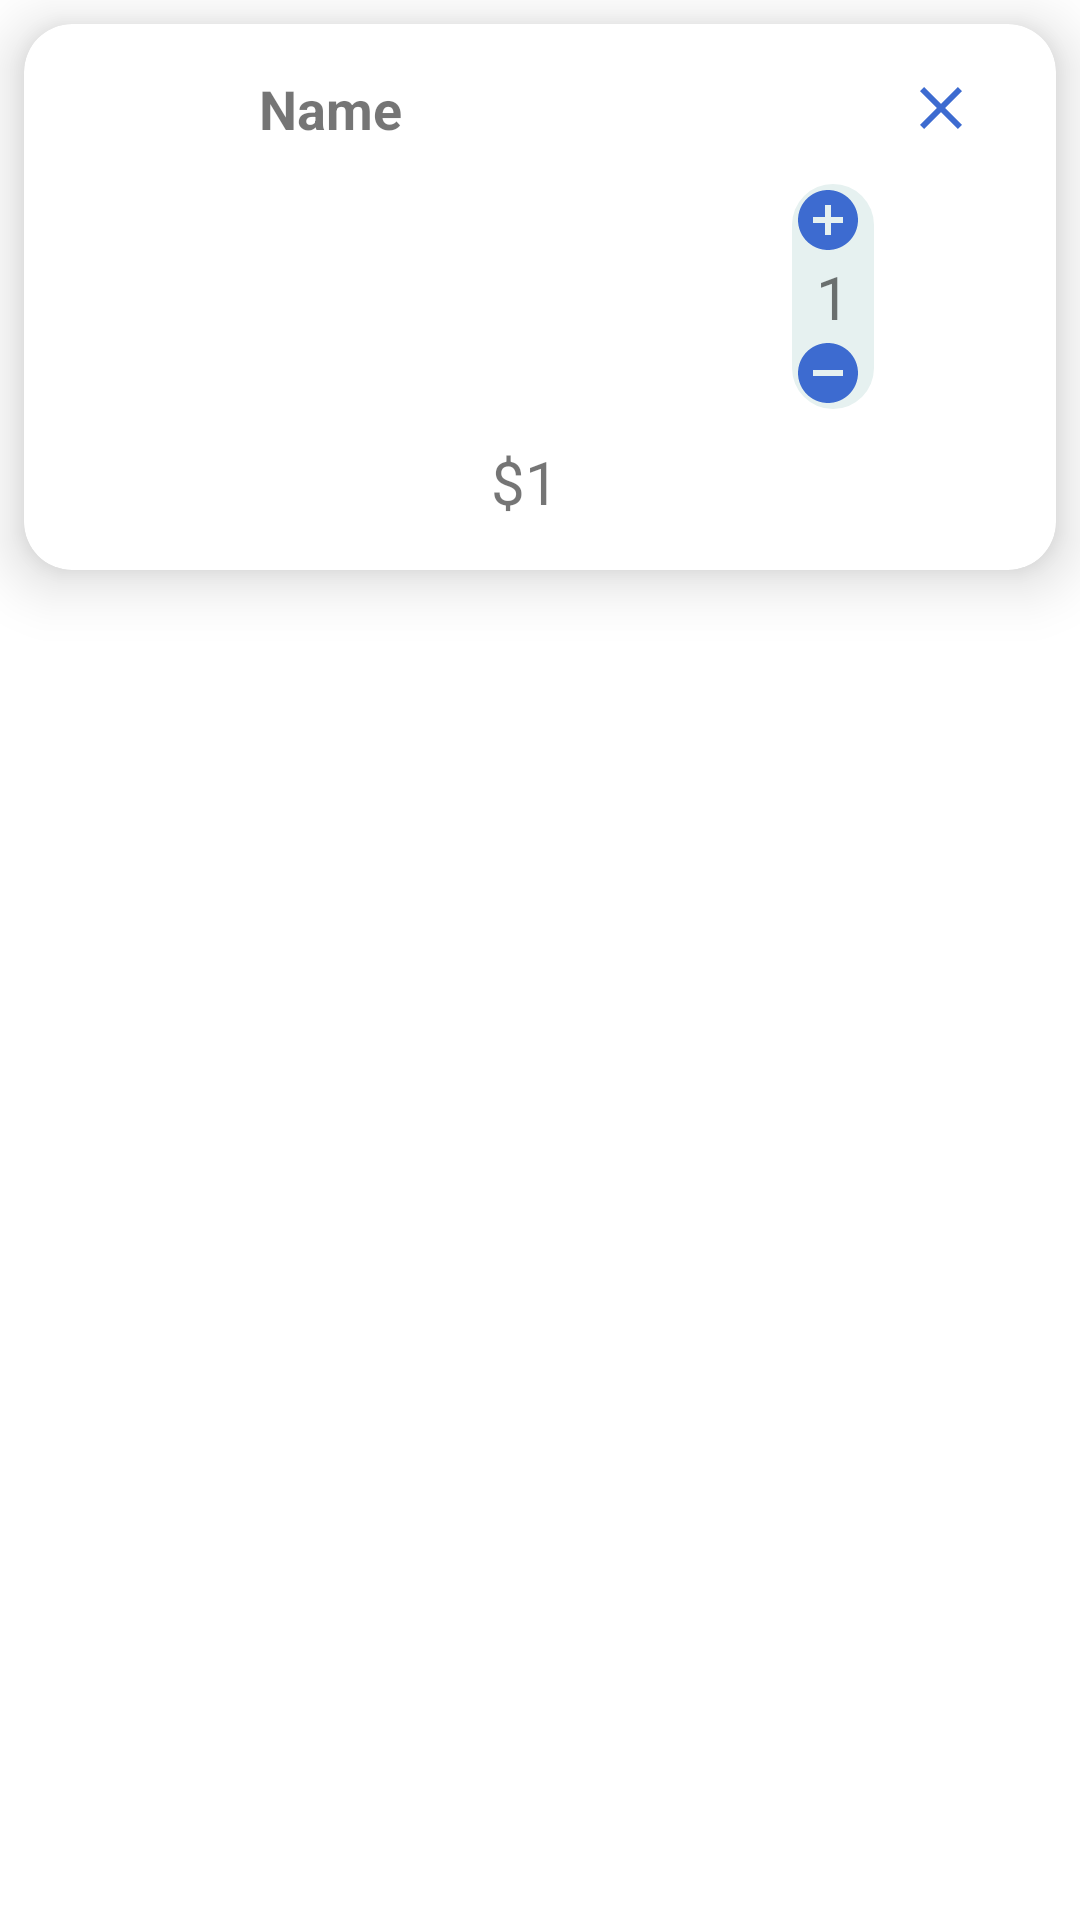

Point at icon controls on the screen. Image size 1080w x 1920h, points as (x,y).
add circle: (828,220)
clear: (941,108)
remove circle: (828,373)
